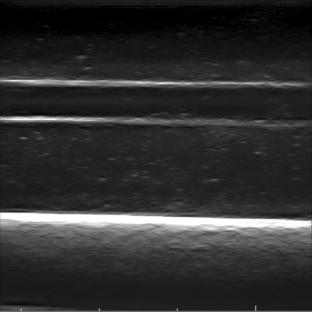vessel: (3, 78, 311, 129)
